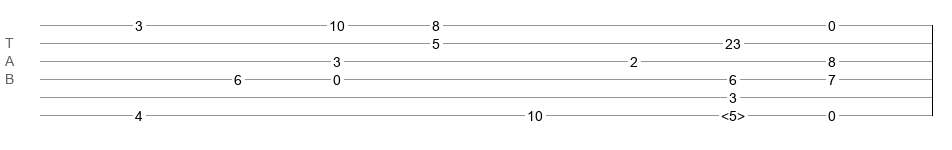0: (333, 72, 341, 82), (828, 108, 836, 118), (828, 18, 836, 28)
10: (329, 18, 345, 28), (527, 108, 543, 118)
2: (630, 54, 638, 64)
23: (725, 36, 741, 46)
3: (135, 18, 143, 28), (333, 54, 341, 64), (729, 90, 737, 100)
4: (135, 108, 143, 118)
5: (432, 36, 440, 46)
6: (234, 72, 242, 82), (729, 72, 737, 82)
7: (828, 72, 836, 82)
8: (432, 18, 440, 28), (828, 54, 836, 64)
harmonic: (721, 108, 745, 118)
